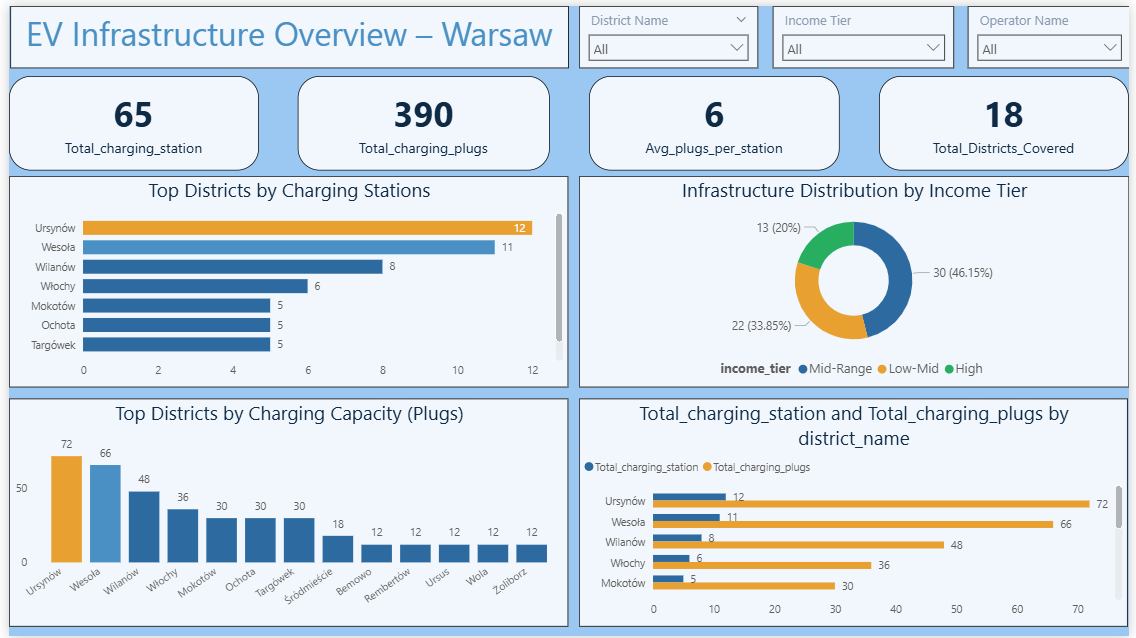

Layout of this report page (visuals, bound fields, positions):
{"tool":"powerbi","page":{"name":"Infrastructure Overview","canvas":[1280,720],"ordinal":0},"visuals":[{"type":"card","title":"Total Charging Stations","fields":{"Values":["a.Total_charging_station"]},"box":[0,80.1,285.3,107.6],"z":0},{"type":"card","fields":{"Values":["a.Total_charging_plugs"]},"box":[330,80.1,287.8,107.6],"z":1000},{"type":"card","fields":{"Values":["a.Avg_plug_per_station"]},"box":[662.4,80.1,286.6,107.6],"z":2000},{"type":"card","fields":{"Values":["a.Total_Districts_Covered"]},"box":[993.7,80.1,285.3,107.6],"z":3000},{"type":"barChart","title":"Top Districts by Charging Stations","fields":{"Y":["CountNonNull(charging_station.station_id)"],"Category":["districts.district_name"]},"box":[0,194.9,639.5,241.5],"z":4000},{"type":"columnChart","title":"Top Districts by Charging Capacity (Plugs)","fields":{"Category":["districts.district_name"],"Y":["Sum(charging_station.plugs_count)"]},"box":[0,448.7,639.5,260.7],"z":5000},{"type":"donutChart","title":"Infrastructure Distribution by Income Tier","fields":{"Y":["CountNonNull(charging_station.station_id)"],"Category":["districts.income_tier"]},"box":[651.8,194.9,628.5,241.5],"z":6000},{"type":"slicer","fields":{"Values":["charging_station.operator_name"]},"box":[1095,0,186.6,71.4],"z":7000},{"type":"slicer","fields":{"Values":["customers.income_tier"]},"box":[872.7,0,207.2,71.4],"z":8000},{"type":"slicer","fields":{"Values":["districts.district_name"]},"box":[651.8,0,204.5,71.4],"z":9000},{"type":"clusteredBarChart","fields":{"Y":["a.Total_charging_station","a.Total_charging_plugs"],"Category":["districts.district_name"]},"box":[651.8,448.7,627.1,260.7],"z":10000},{"type":"textbox","box":[1.4,0,638.1,71.4],"z":11000}]}

Visuals, with their boxes in screenshot pixels (x1, y1, x2, y2), scaled from the page's 1280x720 canvas onto the 1136x638 screenshot:
"Total Charging Stations" card: pyautogui.locateOnScreen(0, 71, 253, 166)
card - a.Total_charging_plugs: pyautogui.locateOnScreen(293, 71, 548, 166)
card - a.Avg_plug_per_station: pyautogui.locateOnScreen(588, 71, 842, 166)
card - a.Total_Districts_Covered: pyautogui.locateOnScreen(882, 71, 1135, 166)
"Top Districts by Charging Stations" barChart: pyautogui.locateOnScreen(0, 173, 568, 387)
"Top Districts by Charging Capacity (Plugs)" columnChart: pyautogui.locateOnScreen(0, 398, 568, 629)
"Infrastructure Distribution by Income Tier" donutChart: pyautogui.locateOnScreen(578, 173, 1135, 387)
slicer - charging_station.operator_name: pyautogui.locateOnScreen(972, 0, 1135, 63)
slicer - customers.income_tier: pyautogui.locateOnScreen(775, 0, 958, 63)
slicer - districts.district_name: pyautogui.locateOnScreen(578, 0, 760, 63)
clusteredBarChart - a.Total_charging_station x a.Total_charging_plugs: pyautogui.locateOnScreen(578, 398, 1135, 629)
textbox: pyautogui.locateOnScreen(1, 0, 568, 63)
